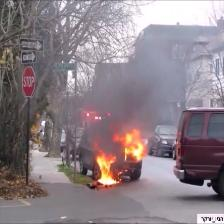fire: (96, 154, 115, 188), (124, 132, 145, 156)
smoke: (97, 63, 180, 119)
